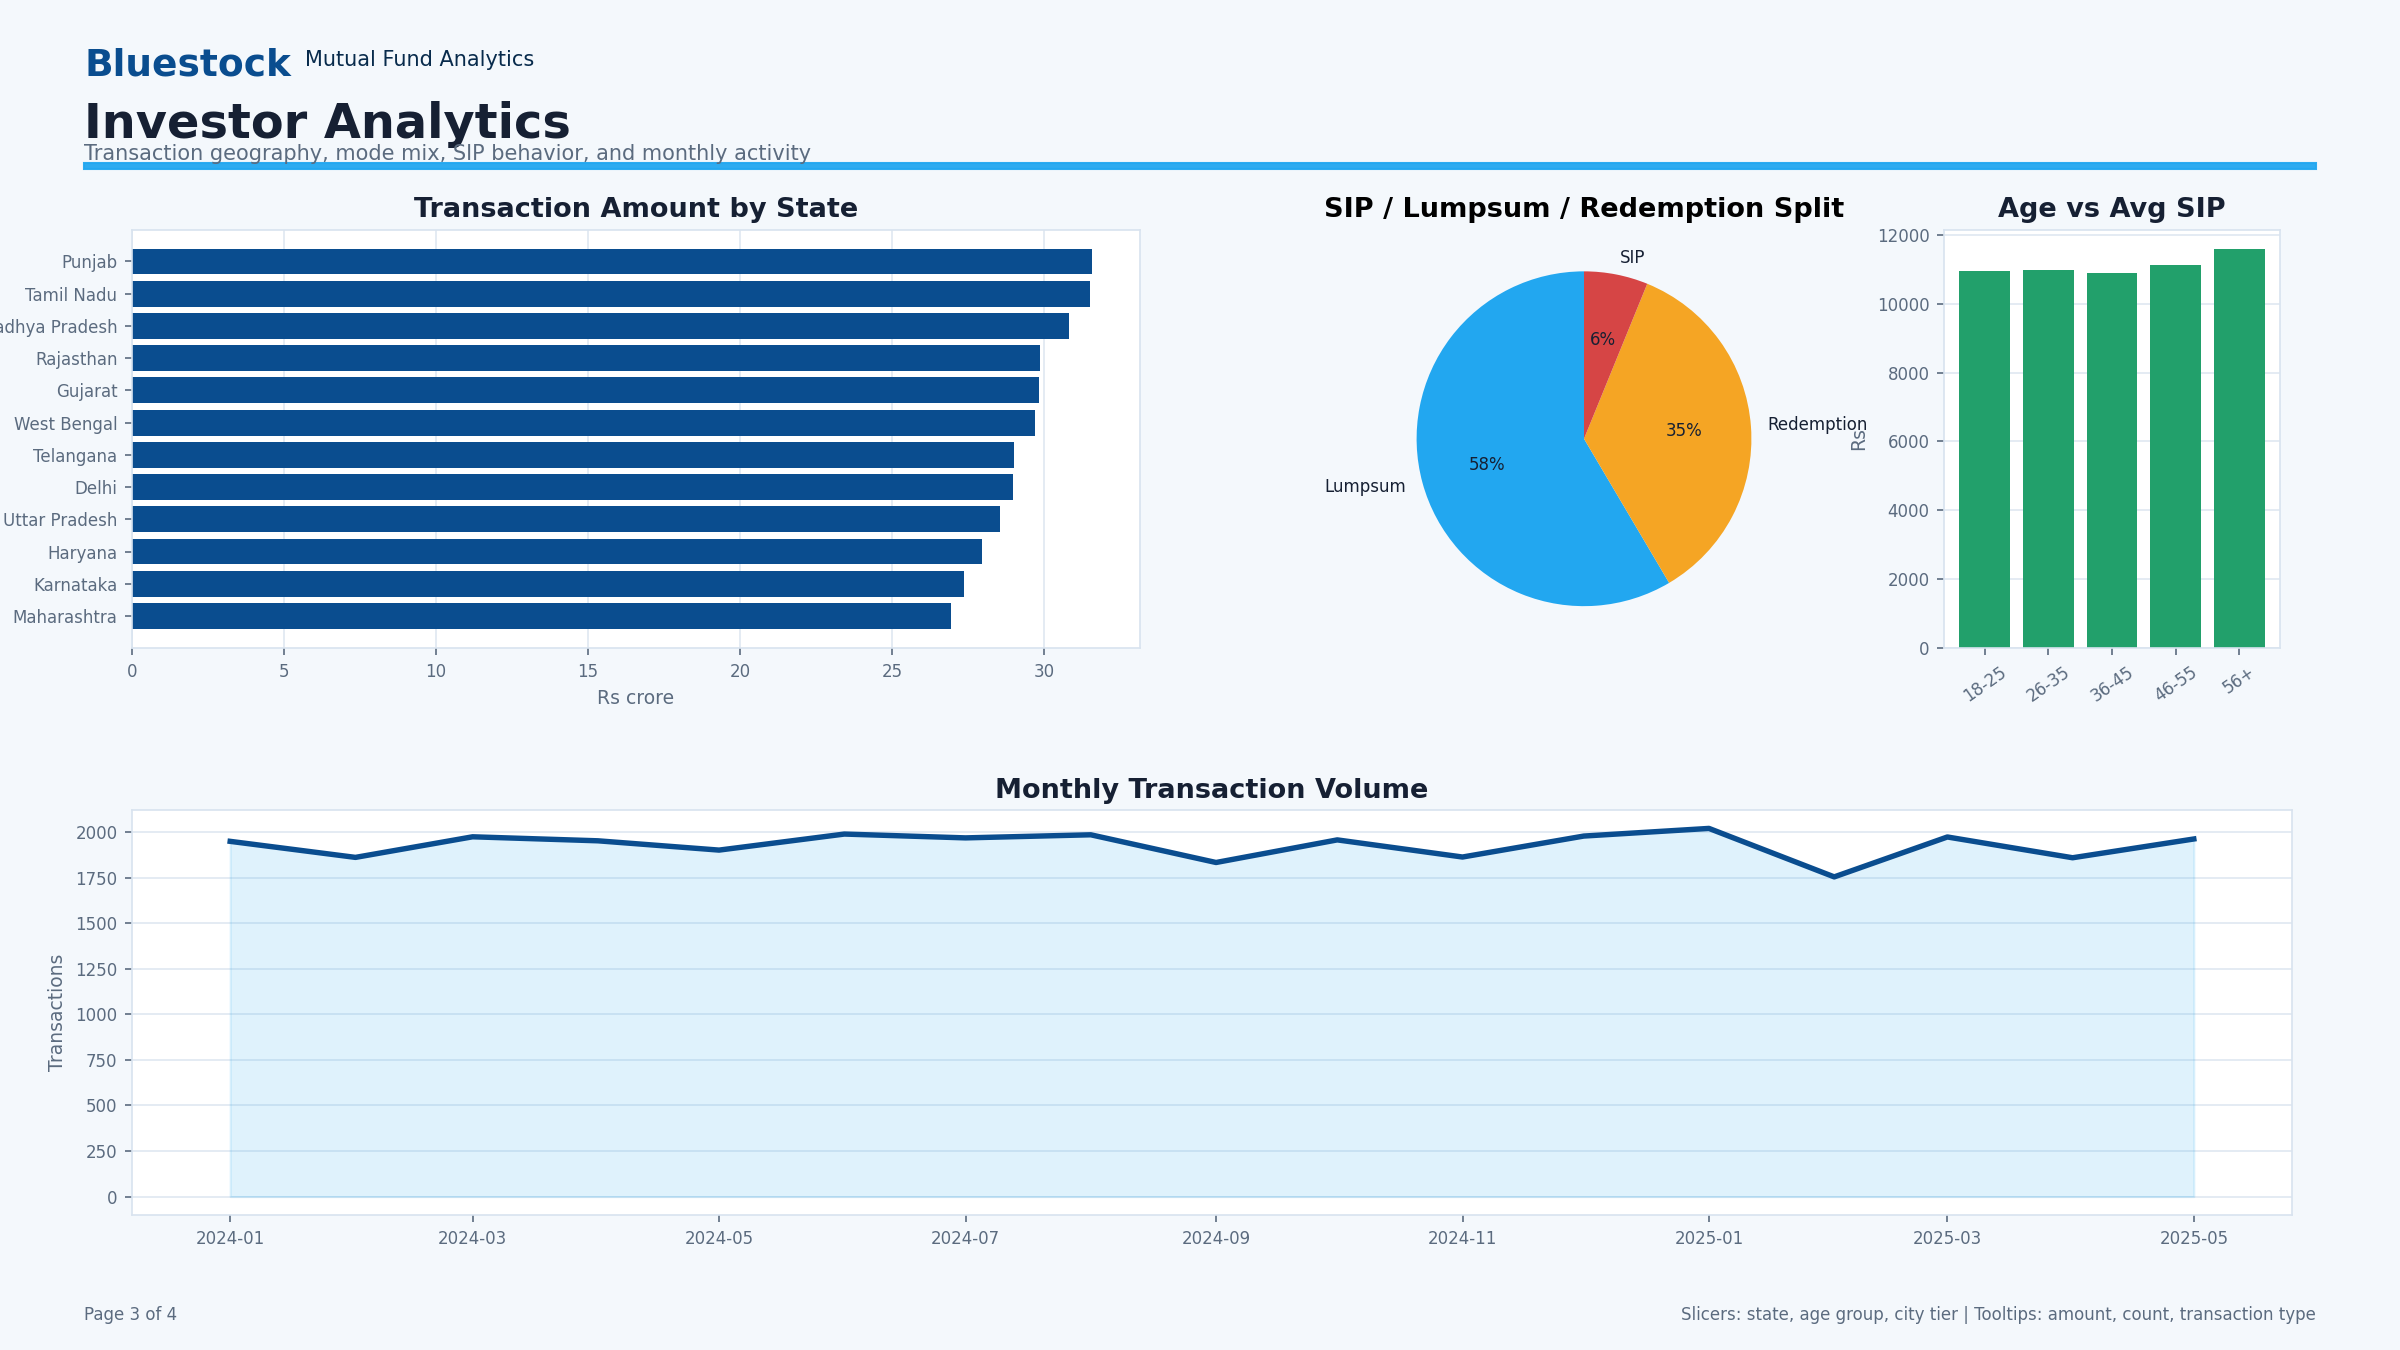

What the dashboard file says about the page in this screenshot:
{"tool":"powerbi","page":{"name":"Investor Analytics","canvas":[1280,720],"ordinal":2},"visuals":[{"type":"clusteredBarChart","title":"Transaction Amount by State","fields":{"Category":["Transactions.state"],"Y":["Sum(Transactions.amount_inr)"]},"box":[0,360,465.7,360],"z":0},{"type":"donutChart","title":"Investment by City Tier","fields":{"Y":["Sum(Transactions.amount_inr)"],"Category":["Transactions.city_tier"]},"box":[0,95.7,698.6,251.4],"z":1000},{"type":"lineChart","title":"Monthly Investment Volume","fields":{"Category":["Transactions.transaction_date.Variation.Date Hierarchy.Month"],"Y":["Sum(Transactions.amount_inr)"]},"box":[435.7,360,388.6,360],"z":2000},{"type":"clusteredColumnChart","title":"Average Investment by Age Group","fields":{"Category":["Transactions.age_group"],"Y":["Avg(Transactions.amount_inr)"]},"box":[824.3,347.1,455.7,372.9],"z":3000},{"type":"slicer","fields":{"Values":["Transactions.state"]},"box":[988.6,0,291.4,347.1],"z":4000},{"type":"slicer","fields":{"Values":["Transactions.age_group"]},"box":[698.6,0,290,144.3],"z":5000},{"type":"slicer","fields":{"Values":["Transactions.city_tier"]},"box":[698.6,144.3,290,202.9],"z":6000},{"type":"textbox","box":[0,0,698.6,72.9],"z":7000}]}

Visuals, with their boxes in screenshot pixels (x1, y1, x2, y2), scaled from the page's 1280x720 canvas onto the 2400x1350 screenshot:
"Transaction Amount by State" clusteredBarChart: x1=0, y1=675, x2=873, y2=1349
"Investment by City Tier" donutChart: x1=0, y1=179, x2=1310, y2=651
"Monthly Investment Volume" lineChart: x1=817, y1=675, x2=1546, y2=1349
"Average Investment by Age Group" clusteredColumnChart: x1=1546, y1=651, x2=2399, y2=1349
slicer - Transactions.state: x1=1854, y1=0, x2=2399, y2=651
slicer - Transactions.age_group: x1=1310, y1=0, x2=1854, y2=271
slicer - Transactions.city_tier: x1=1310, y1=271, x2=1854, y2=651
textbox: x1=0, y1=0, x2=1310, y2=137
